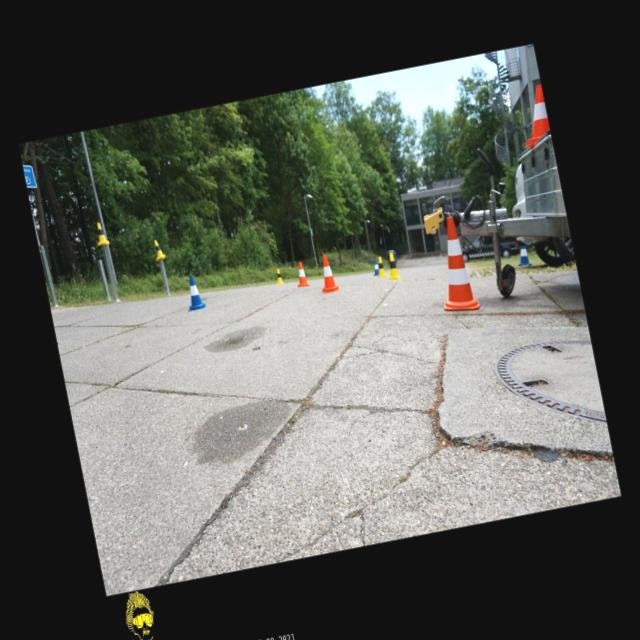blue_cone: (182, 274, 208, 312), (515, 244, 532, 266), (371, 260, 380, 276)
large_orange_cone: (426, 214, 481, 316)
orange_cone: (513, 84, 552, 147), (316, 254, 340, 292), (293, 260, 310, 288)
yellow_cone: (384, 251, 401, 280), (94, 221, 110, 246), (152, 238, 166, 262), (376, 256, 388, 278), (274, 268, 285, 284)
